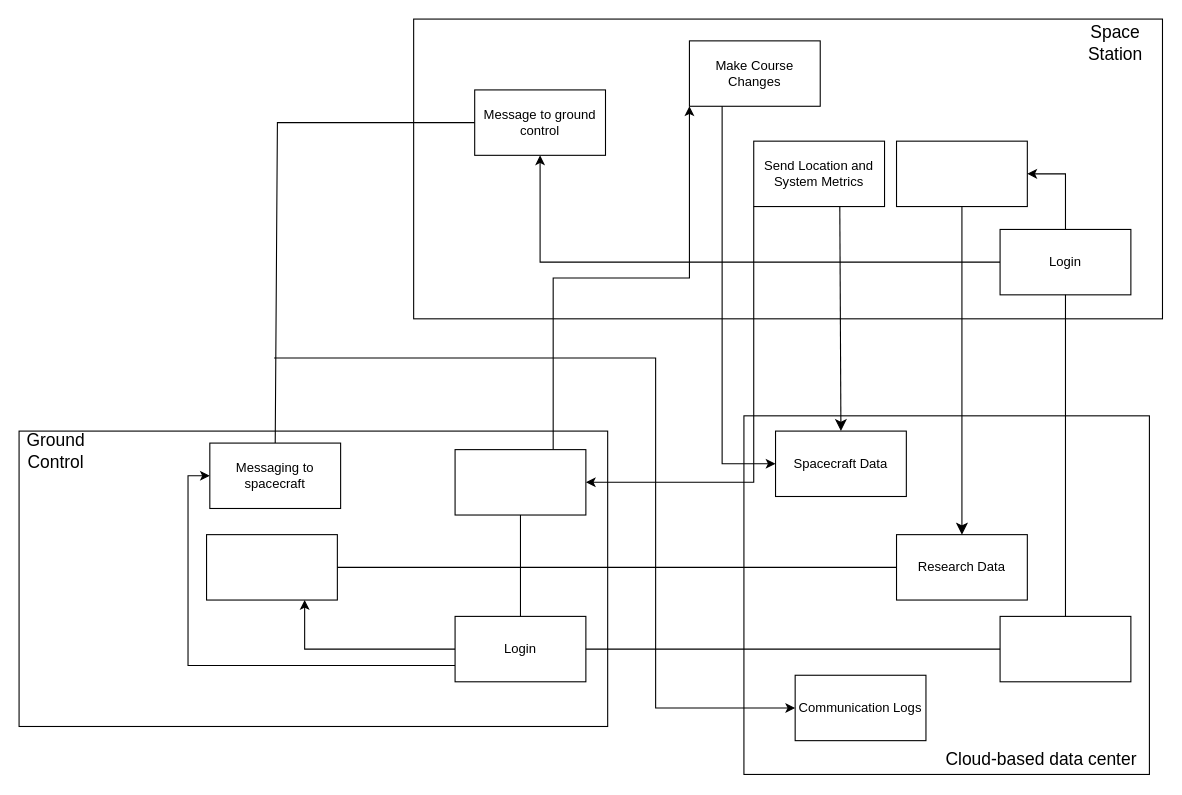
Image size: 1182x795. Some labels were removed from this diagram. The shapes that lost their labels are listed below. From the top down, each one's centre as x and y in pixels, then its label:
At [961,173]: "Upload Research Data".
At [520,482]: "Monitor Spacecraft Data".
At [271,567]: "Researching".
At [1065,648]: "Credentials".
